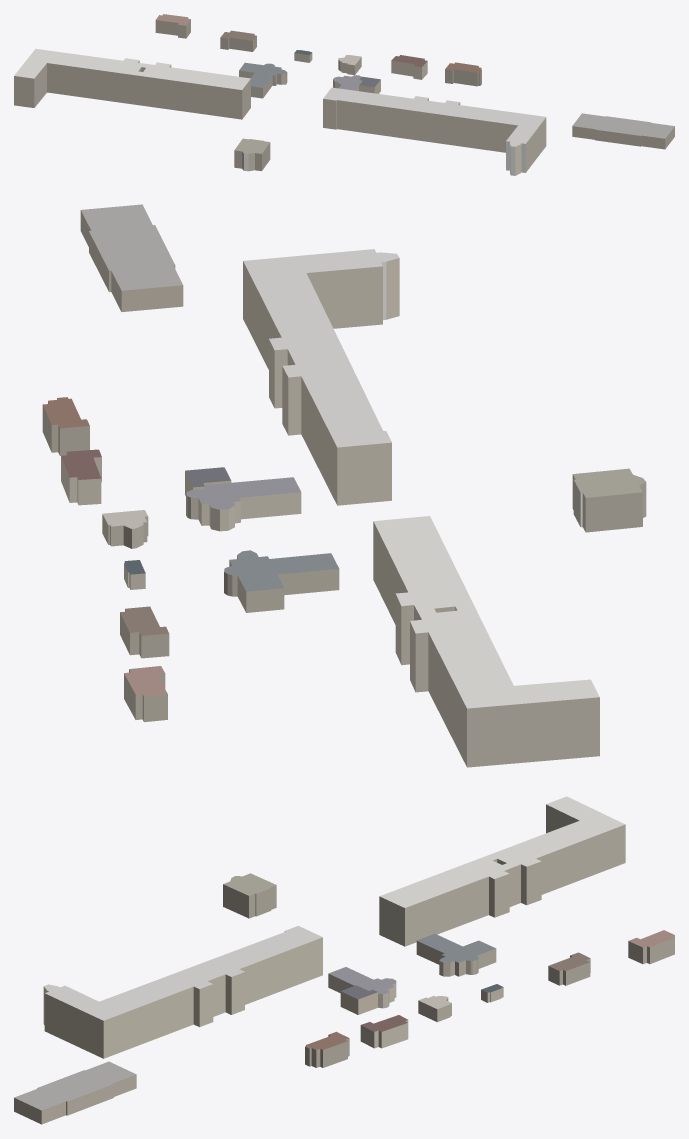
3 views of the same model, one above another, from view 1: azimuth 30°, elevation 25°; view 2: azimuth 150°, elevation 25°; view 3: azimuth 270°, elevation 25° (orthographic). The views are drawn at different scales.
Visible parts, largest first — view 1: tuile; view 2: tuile; view 3: tuile.
Part boxes in pixels (x1=…): tuile: x1=14, y1=14, x2=674, y2=175; tuile: x1=42, y1=204, x2=646, y2=767; tuile: x1=14, y1=796, x2=674, y2=1124.
Bounding box in the file's own units: 296 × 19.28 × 282.
